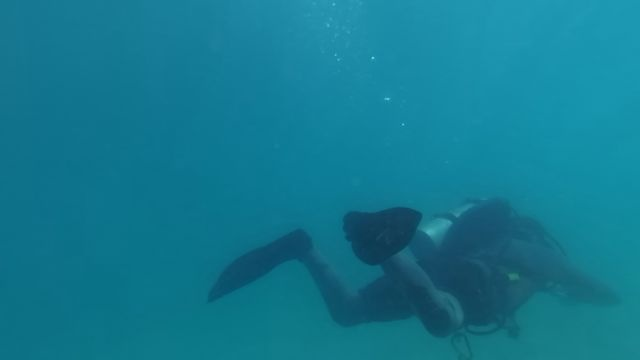Diver: (202, 166, 628, 351)
